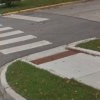crosswalk: (0, 23, 51, 54)
